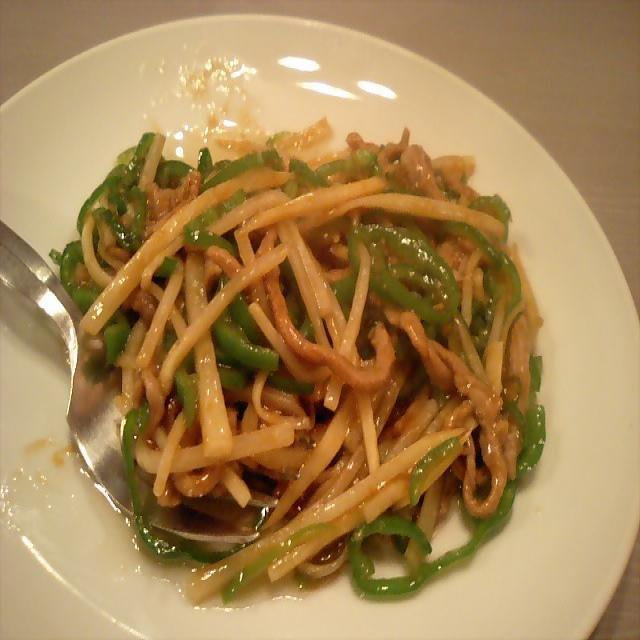牛肉菜式: (28, 89, 432, 640)
